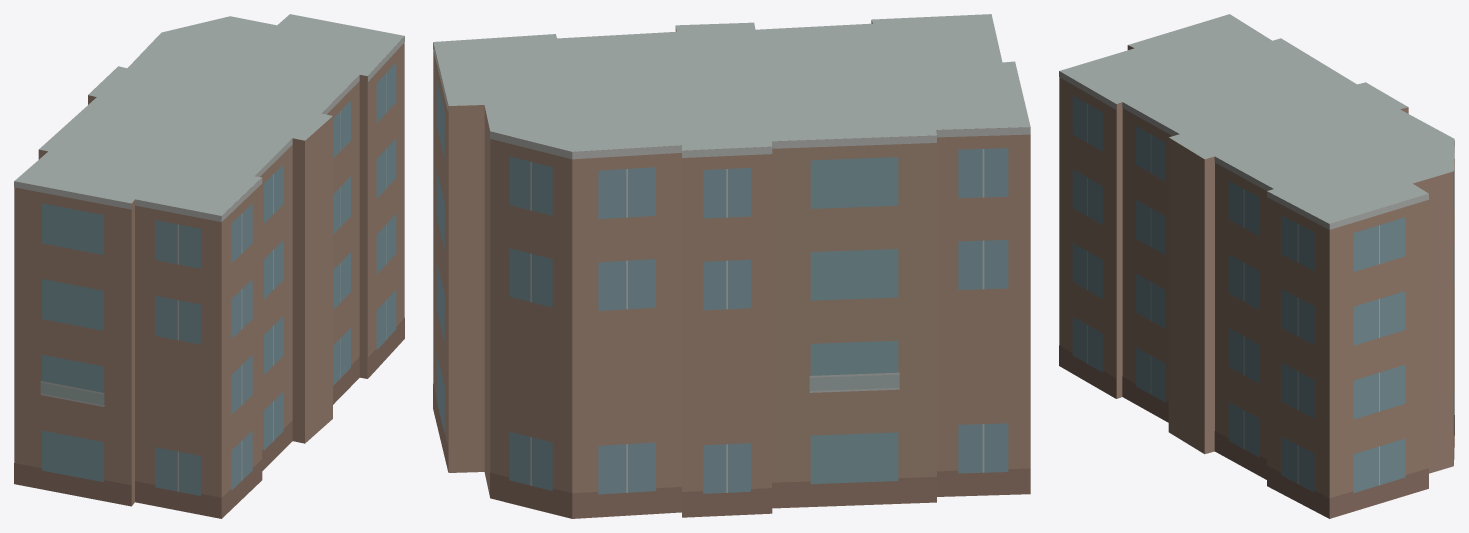
Rendered from survey-upis-32548134.glb.
The picture shows the model from 3 angles, left to right: view 1: azimuth 30°, elevation 25°; view 2: azimuth 150°, elevation 25°; view 3: azimuth 270°, elevation 25°; orthographic projection. The views are drawn at different scales.
Visible parts, largest first — view 1: survey-upis-32548134.tmp; view 2: survey-upis-32548134.tmp; view 3: survey-upis-32548134.tmp.
Boxes of the visible parts, bbox=[...] form: survey-upis-32548134.tmp: bbox=[14, 14, 404, 518]; survey-upis-32548134.tmp: bbox=[433, 14, 1030, 518]; survey-upis-32548134.tmp: bbox=[1059, 14, 1454, 518].
Size of the model in its own units: 18.33 by 12 by 14.59.
